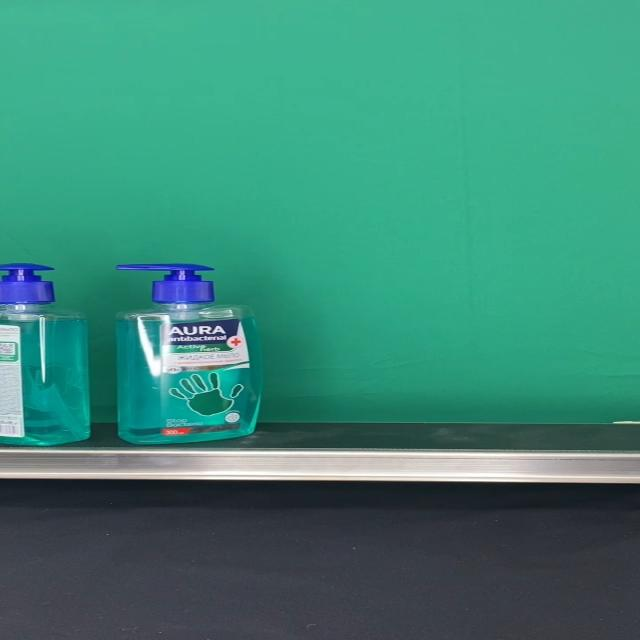Bottle: (115, 263, 264, 445)
Cap: (116, 263, 214, 305)
